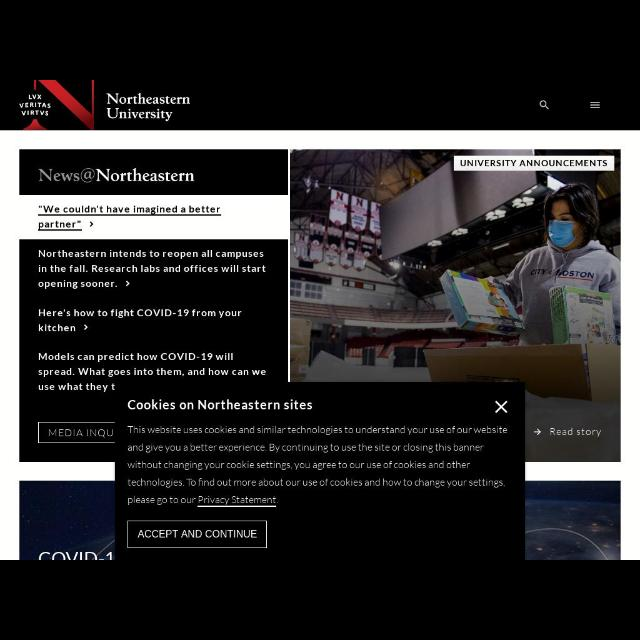icon: (540, 96, 552, 112), (590, 100, 602, 112)
iframe: (114, 382, 524, 558)
image: (292, 152, 622, 464), (21, 481, 619, 559), (14, 82, 198, 130)
text: (40, 248, 266, 290), (39, 352, 268, 378), (36, 202, 222, 230), (36, 308, 244, 332), (41, 165, 195, 188), (40, 382, 109, 396), (46, 426, 112, 440)
textbutton: (40, 422, 112, 444)
toolbar: (1, 81, 638, 129)
